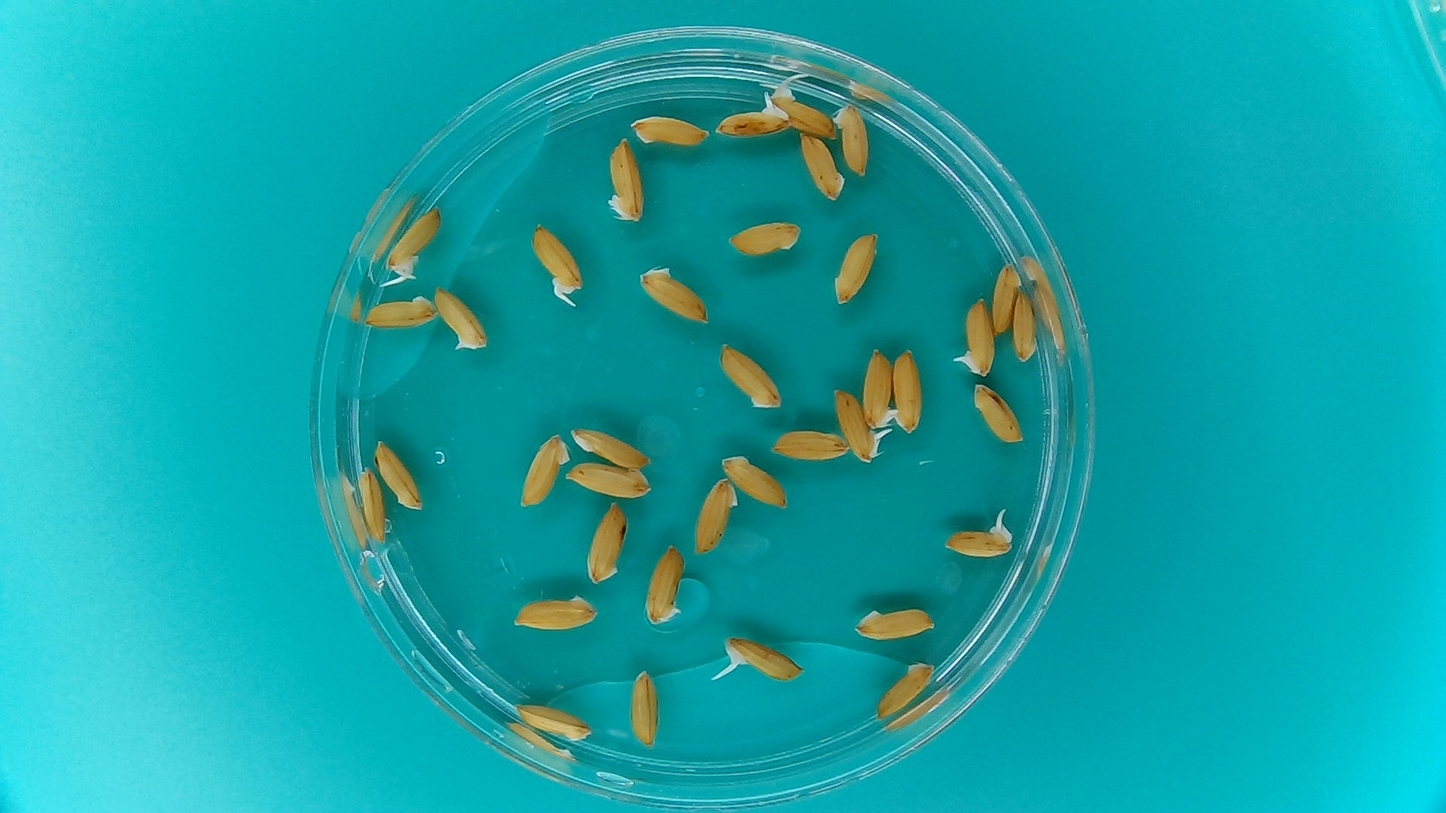no: (578, 495, 634, 588), (637, 261, 712, 326), (717, 341, 785, 412), (871, 656, 938, 726), (719, 450, 793, 512), (514, 431, 569, 510), (642, 542, 691, 629), (508, 592, 603, 636), (371, 435, 424, 513), (432, 282, 490, 353), (691, 474, 741, 555), (604, 134, 648, 225), (831, 229, 881, 307), (968, 380, 1023, 448), (569, 425, 654, 468), (795, 131, 847, 200), (563, 462, 655, 500), (856, 601, 942, 641), (766, 425, 852, 465), (888, 346, 926, 436), (514, 701, 593, 744), (723, 218, 805, 259), (356, 291, 438, 330), (833, 98, 872, 178), (859, 347, 895, 433), (631, 112, 712, 149), (625, 665, 660, 750), (355, 465, 391, 546), (1008, 285, 1039, 364), (990, 261, 1022, 337)
yes: (835, 382, 881, 464), (771, 85, 837, 138), (725, 638, 805, 681), (536, 224, 585, 293), (958, 297, 998, 380), (390, 209, 443, 271), (941, 519, 1017, 560), (715, 106, 794, 139)
